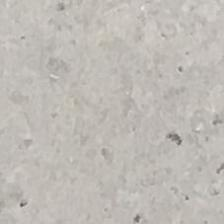Non_Crack: (17, 7, 221, 224)
